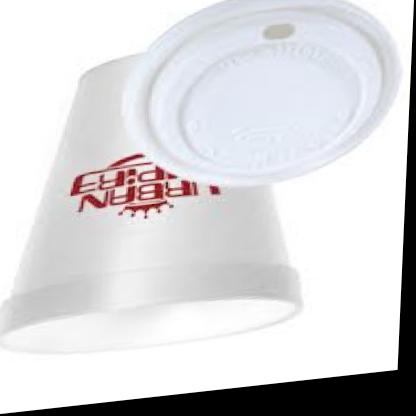Plastic: (0, 0, 414, 408)
